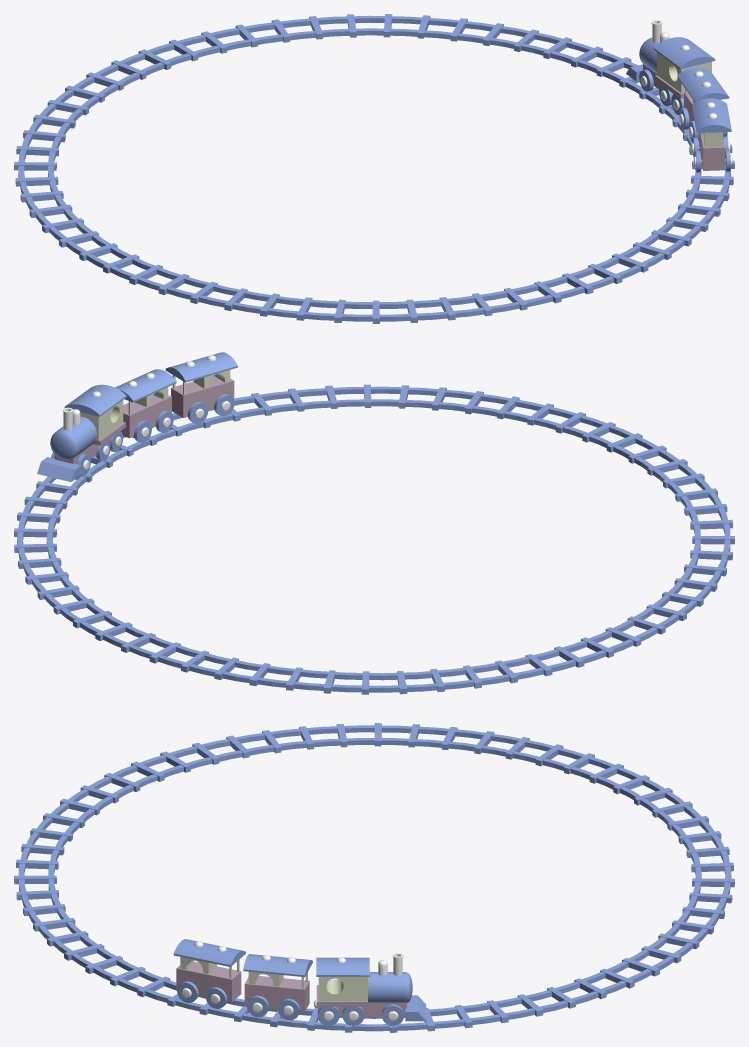
The model's file is choochoo05.glb.
3 renders of one model, top to bottom at view 1: azimuth 30°, elevation 25°; view 2: azimuth 150°, elevation 25°; view 3: azimuth 270°, elevation 25°, orthographic.
Visible parts, largest first — view 1: Track visual, Head; view 2: Track visual, Head; view 3: Track visual, Head.
Boxes of the visible parts, x1,y1,x2,y2 form: Track visual: [14, 14, 734, 323]; Head: [626, 20, 732, 172]; Track visual: [14, 384, 734, 694]; Head: [37, 352, 237, 481]; Track visual: [14, 723, 734, 1032]; Head: [173, 939, 426, 1025].
Bounding box in the file's own units: 65.54 × 6.93 × 65.57.
